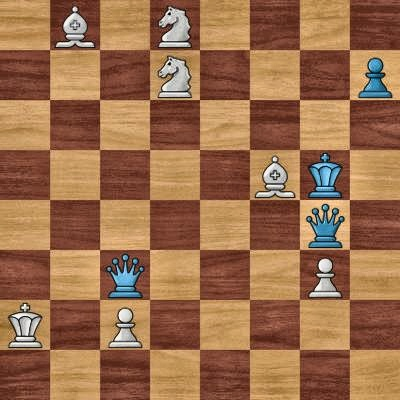black-king: (300, 150, 350, 200)
black-pawn: (350, 50, 400, 100)
black-queen: (300, 200, 350, 250), (100, 250, 150, 300)
white-bishop: (50, 0, 100, 50), (250, 150, 300, 200)
white-king: (0, 300, 50, 350)
white-knight: (150, 0, 200, 50), (150, 50, 200, 100)
white-pawn: (300, 250, 350, 300), (100, 300, 150, 350)
